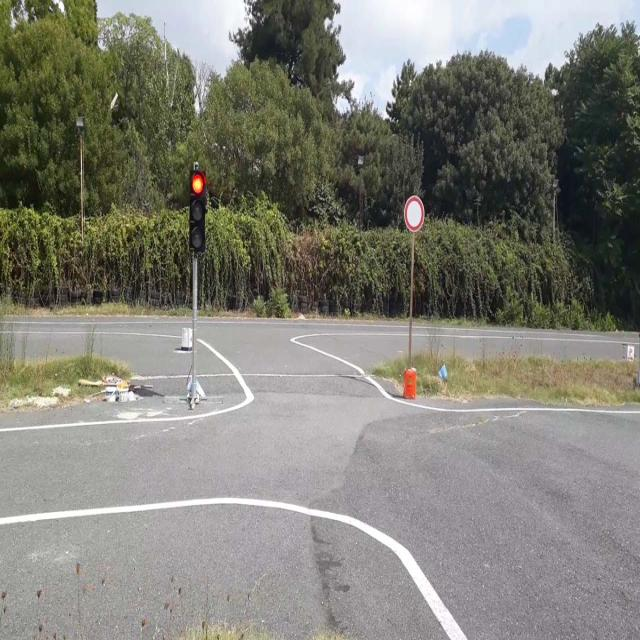kirmizi: (191, 170, 205, 250)
